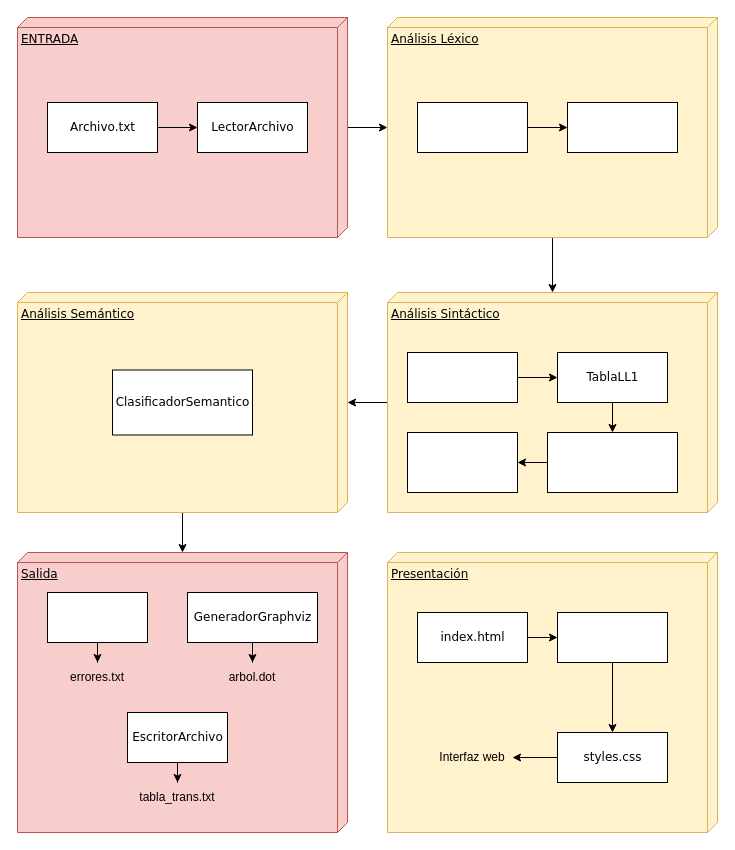
Image size: 735x850. Some labels were removed from this diagram. Each missing label, with the centre of its shape:
"AnalizadorLexico" goes at (x=472, y=127).
"AnalizadorSintactico" goes at (x=612, y=462).
"GeneradorRepo" goes at (x=97, y=617).
"Gramatica" goes at (x=462, y=377).
"NodoArbol" goes at (x=462, y=462).
"script.js" goes at (x=612, y=637).
"Token" goes at (x=622, y=127).
